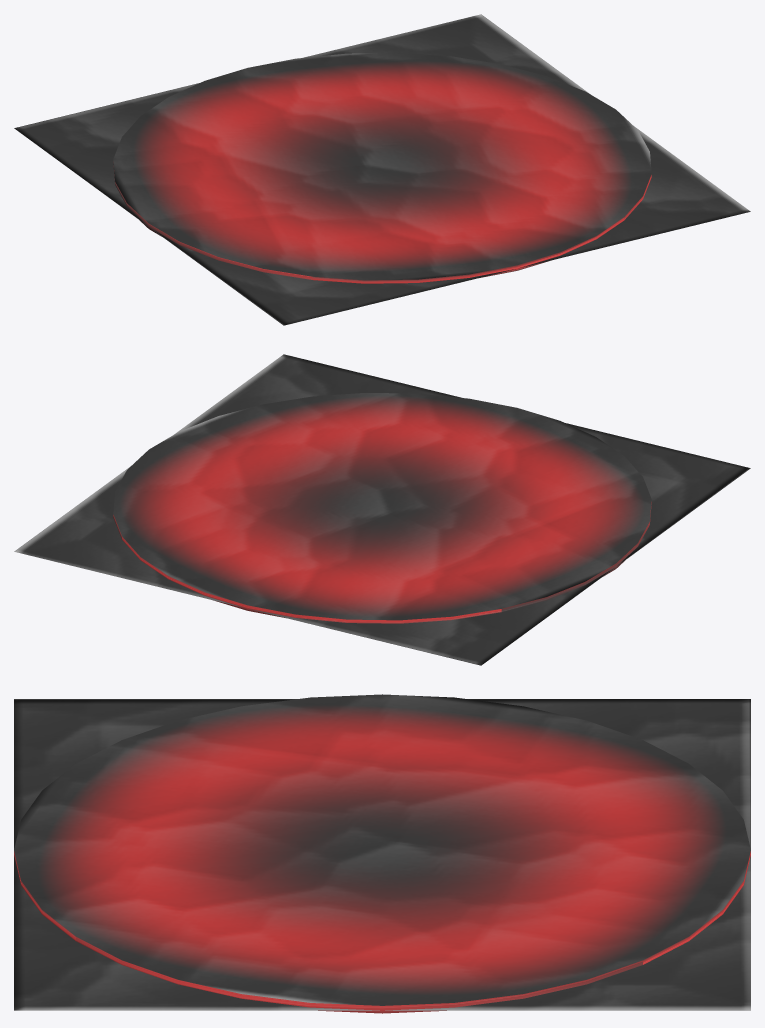
The model's file is baseFilo.fbx.
3 renders of one model, top to bottom at view 1: azimuth 30°, elevation 25°; view 2: azimuth 150°, elevation 25°; view 3: azimuth 270°, elevation 25°, orthographic. The views are drawn at different scales.
Visible parts, largest first — view 1: Cylinder; view 2: Cylinder; view 3: Cylinder.
Boxes of the visible parts, left/top/right/bottom form: Cylinder: left=14, top=14, right=750, bottom=325; Cylinder: left=14, top=354, right=750, bottom=665; Cylinder: left=14, top=694, right=750, bottom=1013.
Bounding box in the file's own units: 2 × 0.0226 × 2.
Materials: 1 (1 with a texture image).
